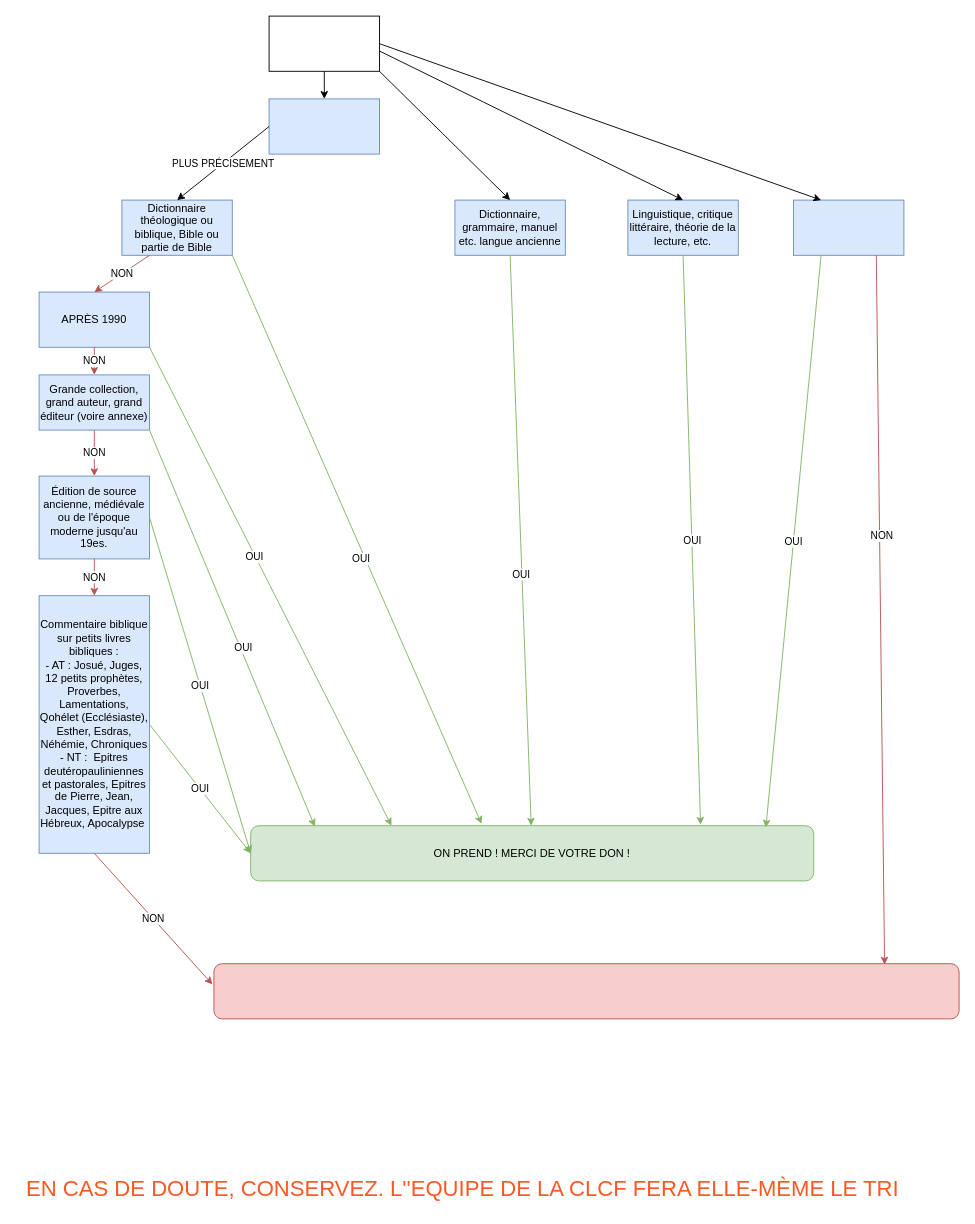
This 975x1224 diagram has some shape labels left out. The shapes that lost their labels are listed below. From the top down, each one's centre as x and y in pixels, then its label:
the point at 324,43: VOUS SOUHAITEZ DONNER UN OUVRAGE DE
the point at 324,126: Religion, Théologie, Philosophie
the point at 848,227: Question de genre, mondialisation, critique sociale, etc. postérieure à 2000
the point at 586,991: HELAS, L'OUVRAGE NE NOUS INTERESSE PAS
